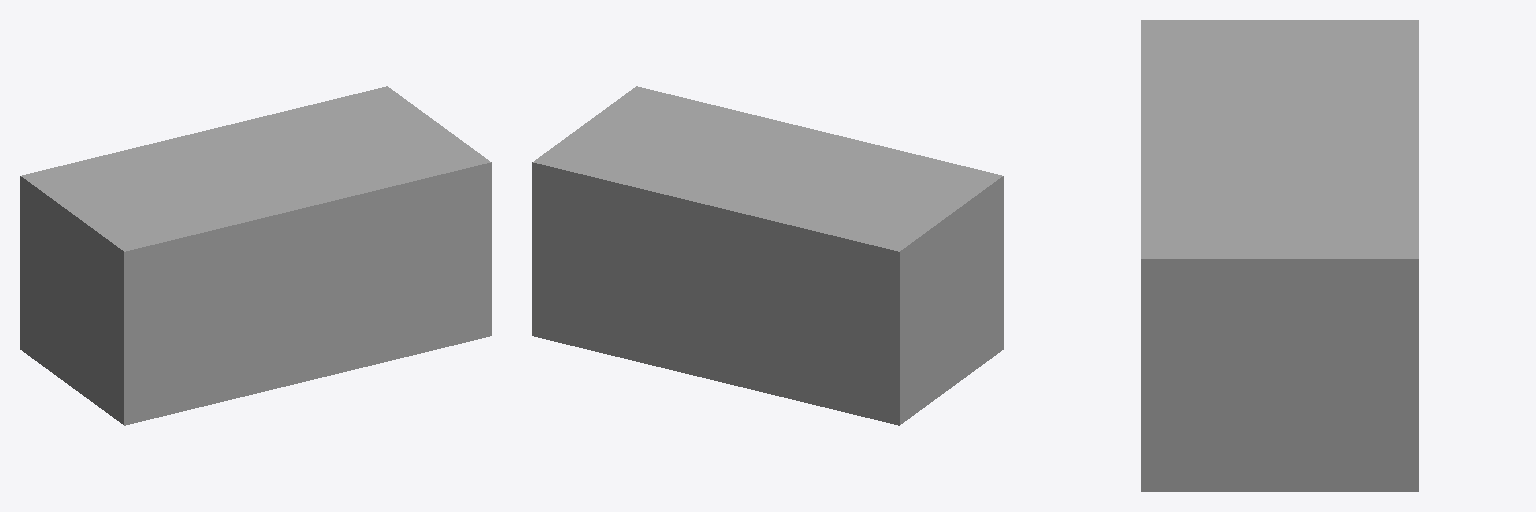
The robot description file, URDF, robot "table_model":
<?xml version="1.0"?>
<robot name="table_model">

  <!-- Link for the table -->
  <link name="table_link">
    <visual>
      <!-- Reference to the Table.obj file -->
      <geometry>
        <mesh filename="Table.obj" scale="1 1 1"/>
      </geometry>
      <material name="gray">
        <color rgba="0.7 0.7 0.7 1"/>
      </material>
    </visual>

    <collision>
      <geometry>
        <mesh filename="Table.obj" scale="1 1 1"/>
      </geometry>
    </collision>

    <inertial>
      <mass value="10.0"/>
      <origin xyz="0 0 0" rpy="0 0 0"/>
      <inertia ixx="0.1" ixy="0.0" ixz="0.0" iyy="0.1" iyz="0.0" izz="0.1"/>
    </inertial>
  </link>


</robot>

--- Render facts (derived) ---
Views: 3 orthographic renders of the robot side by side, from view 1: azimuth 30°, elevation 25°; view 2: azimuth 150°, elevation 25°; view 3: azimuth 270°, elevation 25°.
Model table_model with 1 links and 0 joints (none), rooted at table_link, posed every joint at zero.
Links seen in each view (by area): view 1: table_link; view 2: table_link; view 3: table_link.
Link boxes in pixels (box(x1,y1,x2,y2)): table_link: box(20, 86, 491, 425); table_link: box(532, 86, 1003, 425); table_link: box(1141, 20, 1418, 491).
Bounding box of the posed robot: 1.59 × 0.78 × 0.72 m (x, y, z).
Meshes: 1 distinct files referenced, 1 mesh visuals loaded (1 OBJ).